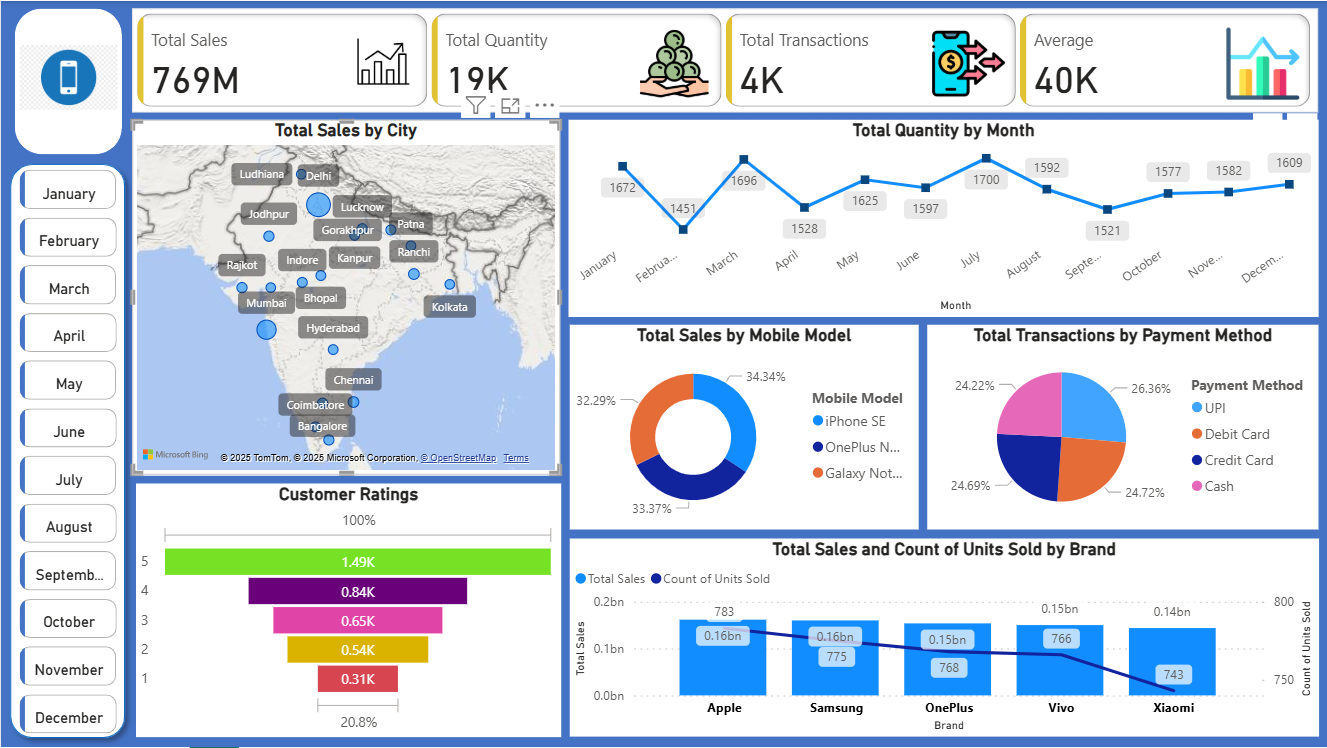

The page's visual inventory and layout, read from the dashboard file:
{"tool":"powerbi","page":{"name":"Mobile Sales Dashboard","canvas":[1280,720],"ordinal":0},"visuals":[{"type":"shape","box":[0,148.4,129.1,571.9],"z":0},{"type":"advancedSlicerVisual","fields":{"Values":["Sales_Data.Date.Variation.Date Hierarchy.Month"]},"box":[13.3,158,103.8,562.2],"z":1000},{"type":"cardVisual","fields":{"Data":["Sales_Data.Total Sales","Sales_Data.Total Quantity","Sales_Data.Total Transactions","Sales_Data.Average"]},"box":[127.1,7.1,1144.3,100],"z":2000},{"type":"map","fields":{"Category":["Sales_Data.City"],"Size":["Sales_Data.Total Sales"]},"box":[127.1,114.3,412.9,342.9],"z":3000},{"type":"lineChart","fields":{"Y":["Sales_Data.Total Quantity"],"Category":["Sales_Data.Date.Variation.Date Hierarchy.Year","Sales_Data.Date.Variation.Date Hierarchy.Quarter","Sales_Data.Date.Variation.Date Hierarchy.Month","Sales_Data.Date.Variation.Date Hierarchy.Day"]},"box":[547.1,114.3,724.3,190],"z":4000},{"type":"donutChart","fields":{"Category":["Sales_Data.Mobile Model"],"Y":["Sales_Data.Total Sales"]},"box":[548.9,312.5,336.6,197.9],"z":5000},{"type":"pieChart","fields":{"Category":["Sales_Data.Payment Method"],"Y":["Sales_Data.Total Transactions"]},"box":[894,312.5,377.6,197.9],"z":7000},{"type":"funnel","title":"Customer Ratings","fields":{"Category":["Sales_Data.Customer Ratings"],"Y":["CountNonNull(Sales_Data.Customer Ratings)"]},"box":[129.7,466.1,410.5,245.2],"z":8000},{"type":"lineStackedColumnComboChart","fields":{"Category":["Sales_Data.Brand"],"Y":["Sales_Data.Total Sales"],"Y2":["CountNonNull(Sales_Data.Units Sold)"]},"box":[548.6,518.6,722.9,191.4],"z":8001},{"type":"shape","box":[13.3,7.2,103.8,141.2],"z":8002},{"type":"image","box":[12.8,17.1,104.1,114],"z":8003}]}

Visuals, with their boxes in screenshot pixels (x1, y1, x2, y2), scaled from the page's 1280x720 canvas onto the 1327x748 screenshot:
shape: bbox=[0, 154, 134, 747]
advancedSlicerVisual - Sales_Data.Date.Variation.Date Hierarchy.Month: bbox=[14, 164, 121, 747]
cardVisual - Sales_Data.Total Sales x Sales_Data.Total Quantity: bbox=[132, 7, 1318, 111]
map - Sales_Data.City x Sales_Data.Total Sales: bbox=[132, 119, 560, 475]
lineChart - Sales_Data.Total Quantity x Sales_Data.Date.Variation.Date Hierarchy.Year: bbox=[567, 119, 1318, 316]
donutChart - Sales_Data.Mobile Model x Sales_Data.Total Sales: bbox=[569, 325, 918, 530]
pieChart - Sales_Data.Payment Method x Sales_Data.Total Transactions: bbox=[927, 325, 1318, 530]
"Customer Ratings" funnel: bbox=[134, 484, 560, 739]
lineStackedColumnComboChart - Sales_Data.Brand x Sales_Data.Total Sales: bbox=[569, 539, 1318, 738]
shape: bbox=[14, 7, 121, 154]
image: bbox=[13, 18, 121, 136]
